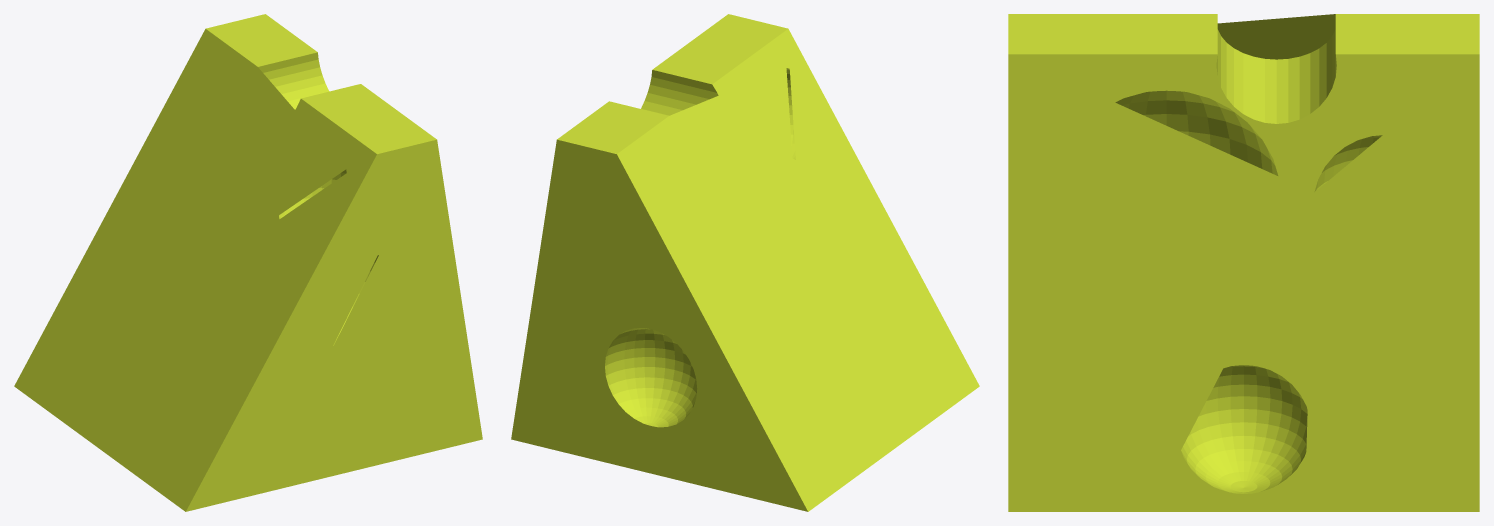
File: Cheese.fbx
The picture shows the model from 3 angles, left to right: view 1: azimuth 30°, elevation 25°; view 2: azimuth 150°, elevation 25°; view 3: azimuth 270°, elevation 25°; orthographic projection. The views are drawn at different scales.
Parts seen in each view (by area): view 1: Cheese; view 2: Cheese; view 3: Cheese.
Part boxes in pixels (<box>): Cheese: <box>14,14,482,511</box>; Cheese: <box>511,14,979,511</box>; Cheese: <box>1008,14,1479,511</box>.
Bounding box in the file's own units: 200 × 200 × 200.
